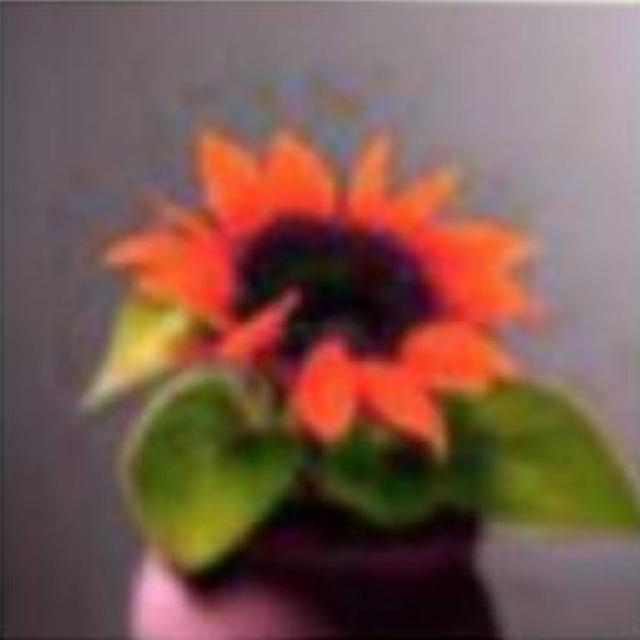sunflower: (125, 134, 542, 443)
